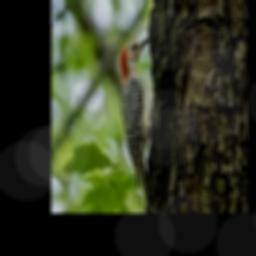Woodpecker: (120, 36, 166, 205)
